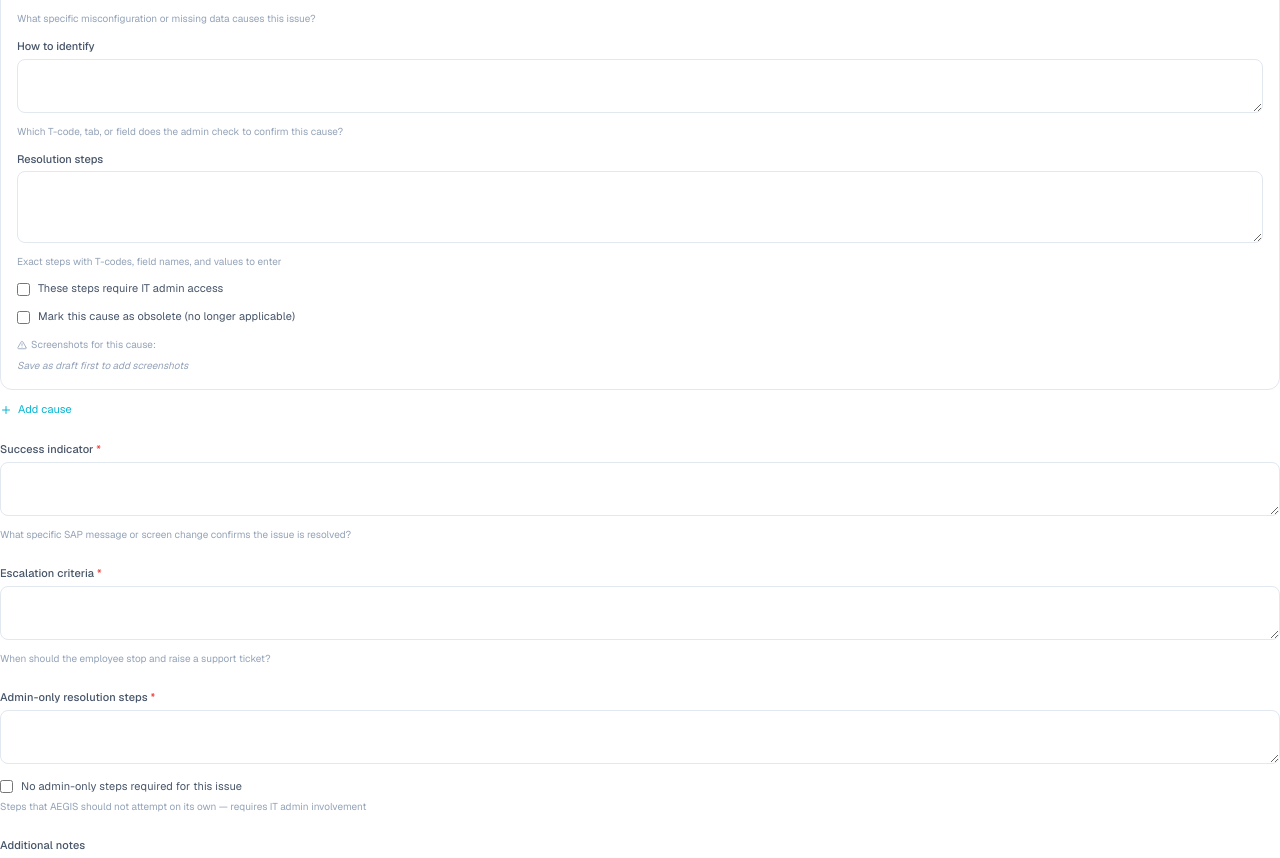
Test: ErrorGuideFormFields › adds a new cause, capped at 10
This screenshot has width=1280, height=858.
(page scrolled)
Click the button "Add cause". click: (36, 410)
box: 0,402 -> 72,418
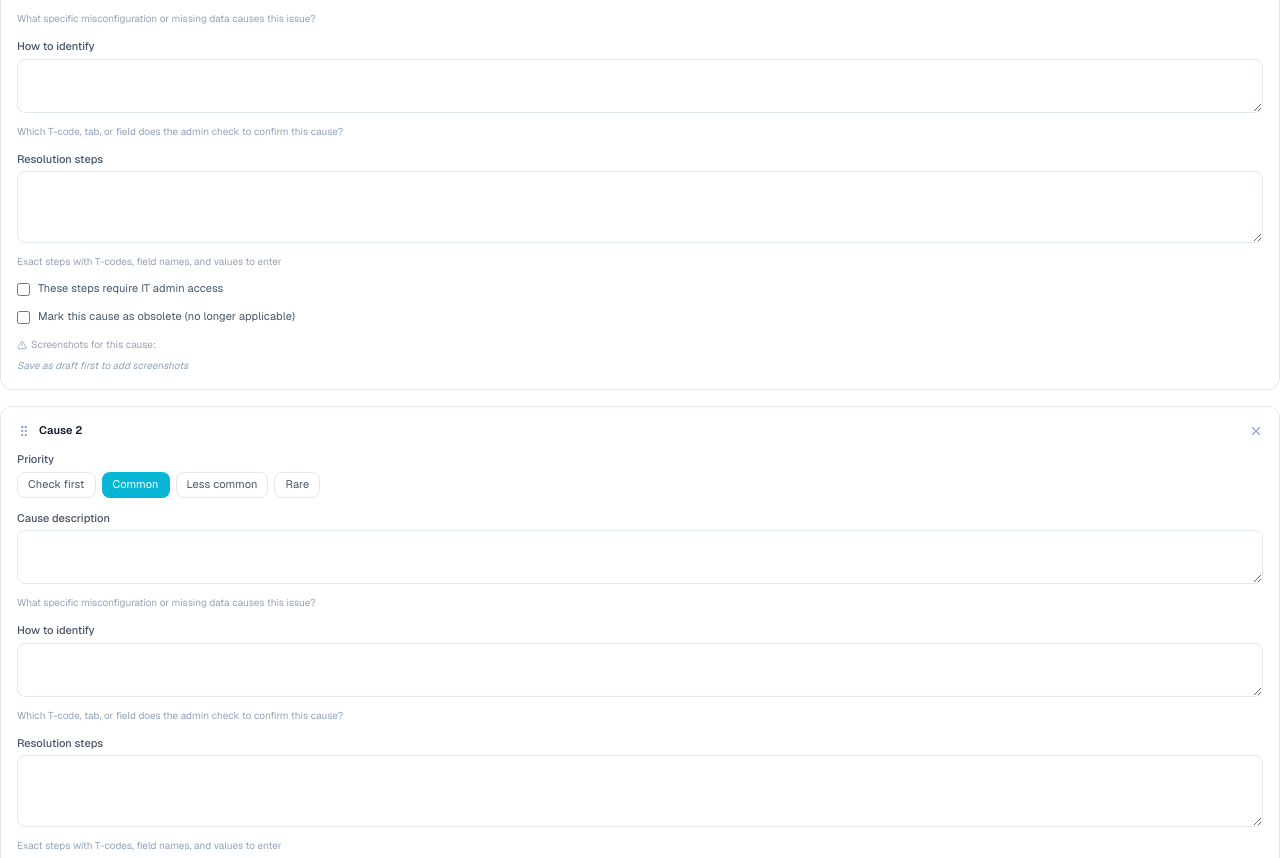
Expected: the text "Cause 2" is shown, 39,423 -> 82,439
